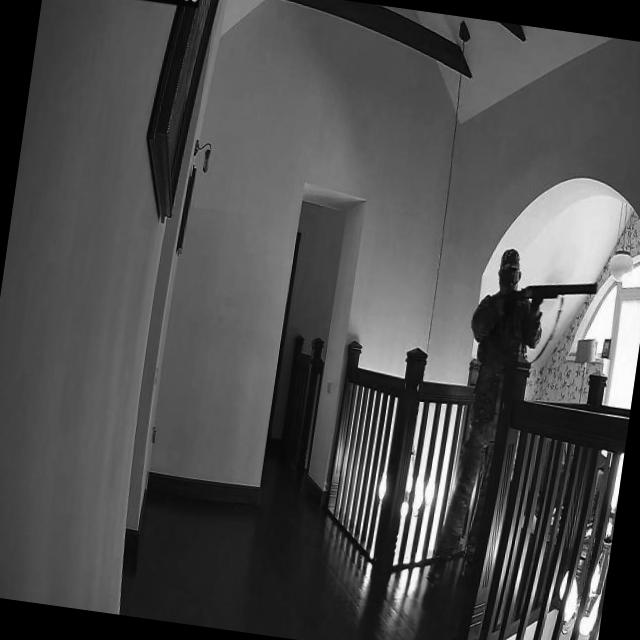gun: (506, 270, 602, 312)
person with a gun: (435, 245, 605, 596)
